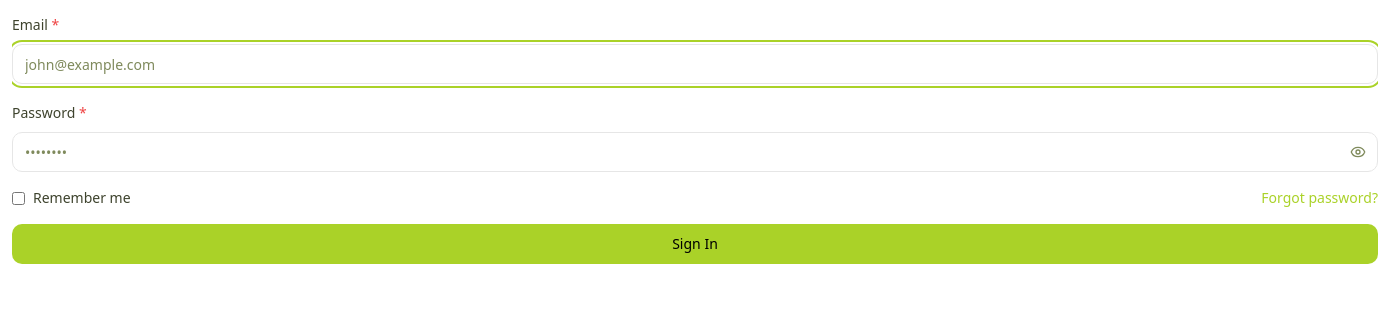
LoginForm › shows a validation error for an invalid email
Type "not-an-email" into the field labelled "Email *".
click(695, 64); type("not-an-email")  # box [12,44,1378,84]
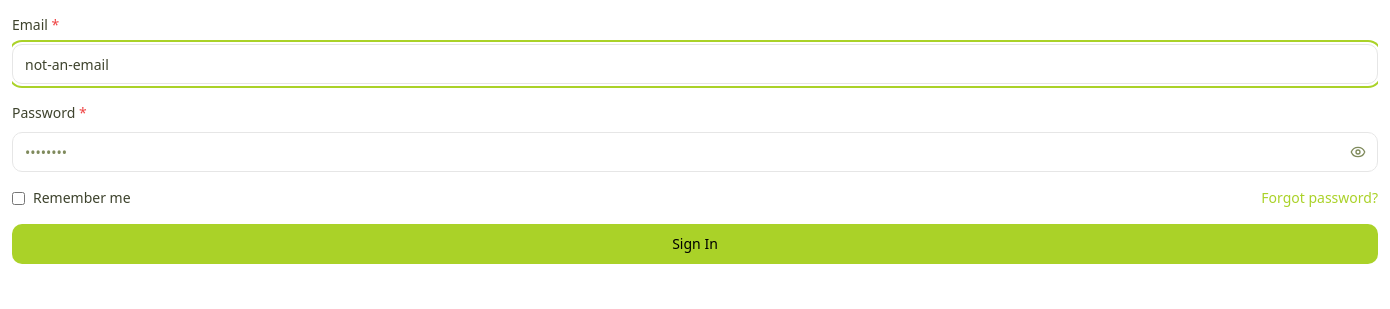
Type "password123" into the password field labelled "Password *".
click(695, 152); type("password123")  # box [12,132,1378,172]
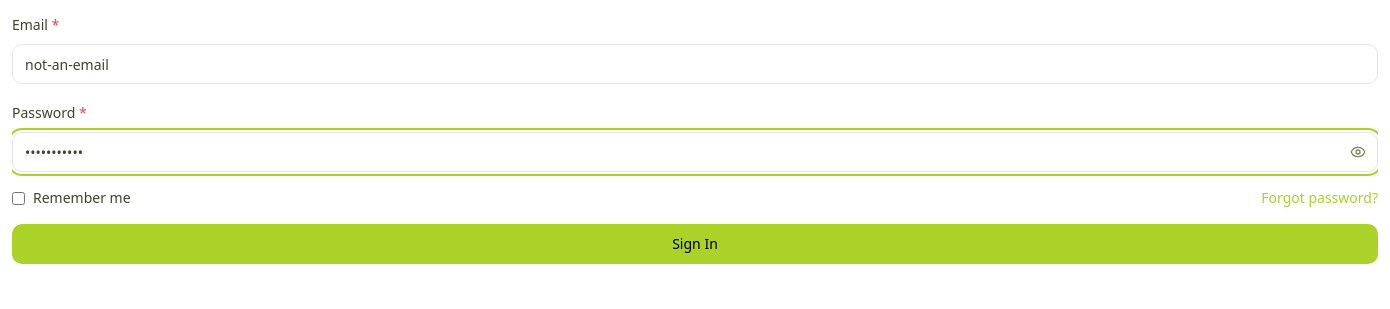
Submit the form
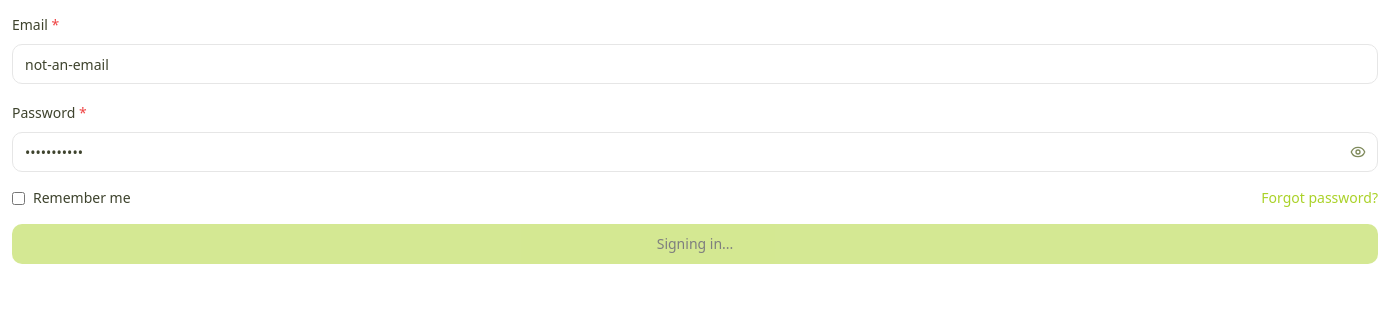
Type "password123" into the password field labelled "Password *".
click(695, 152); type("password123")  # box [12,132,1378,172]
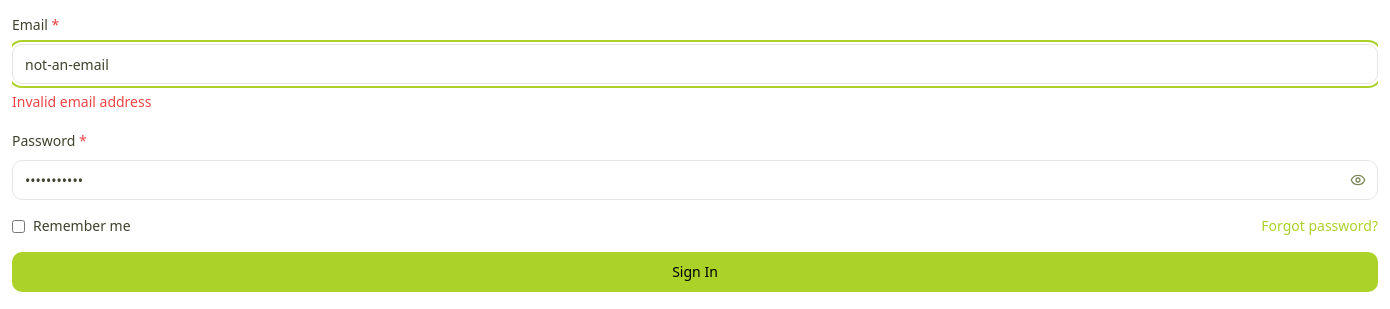
Expected: the text "Invalid email address" is shown, [12,92,151,111]
